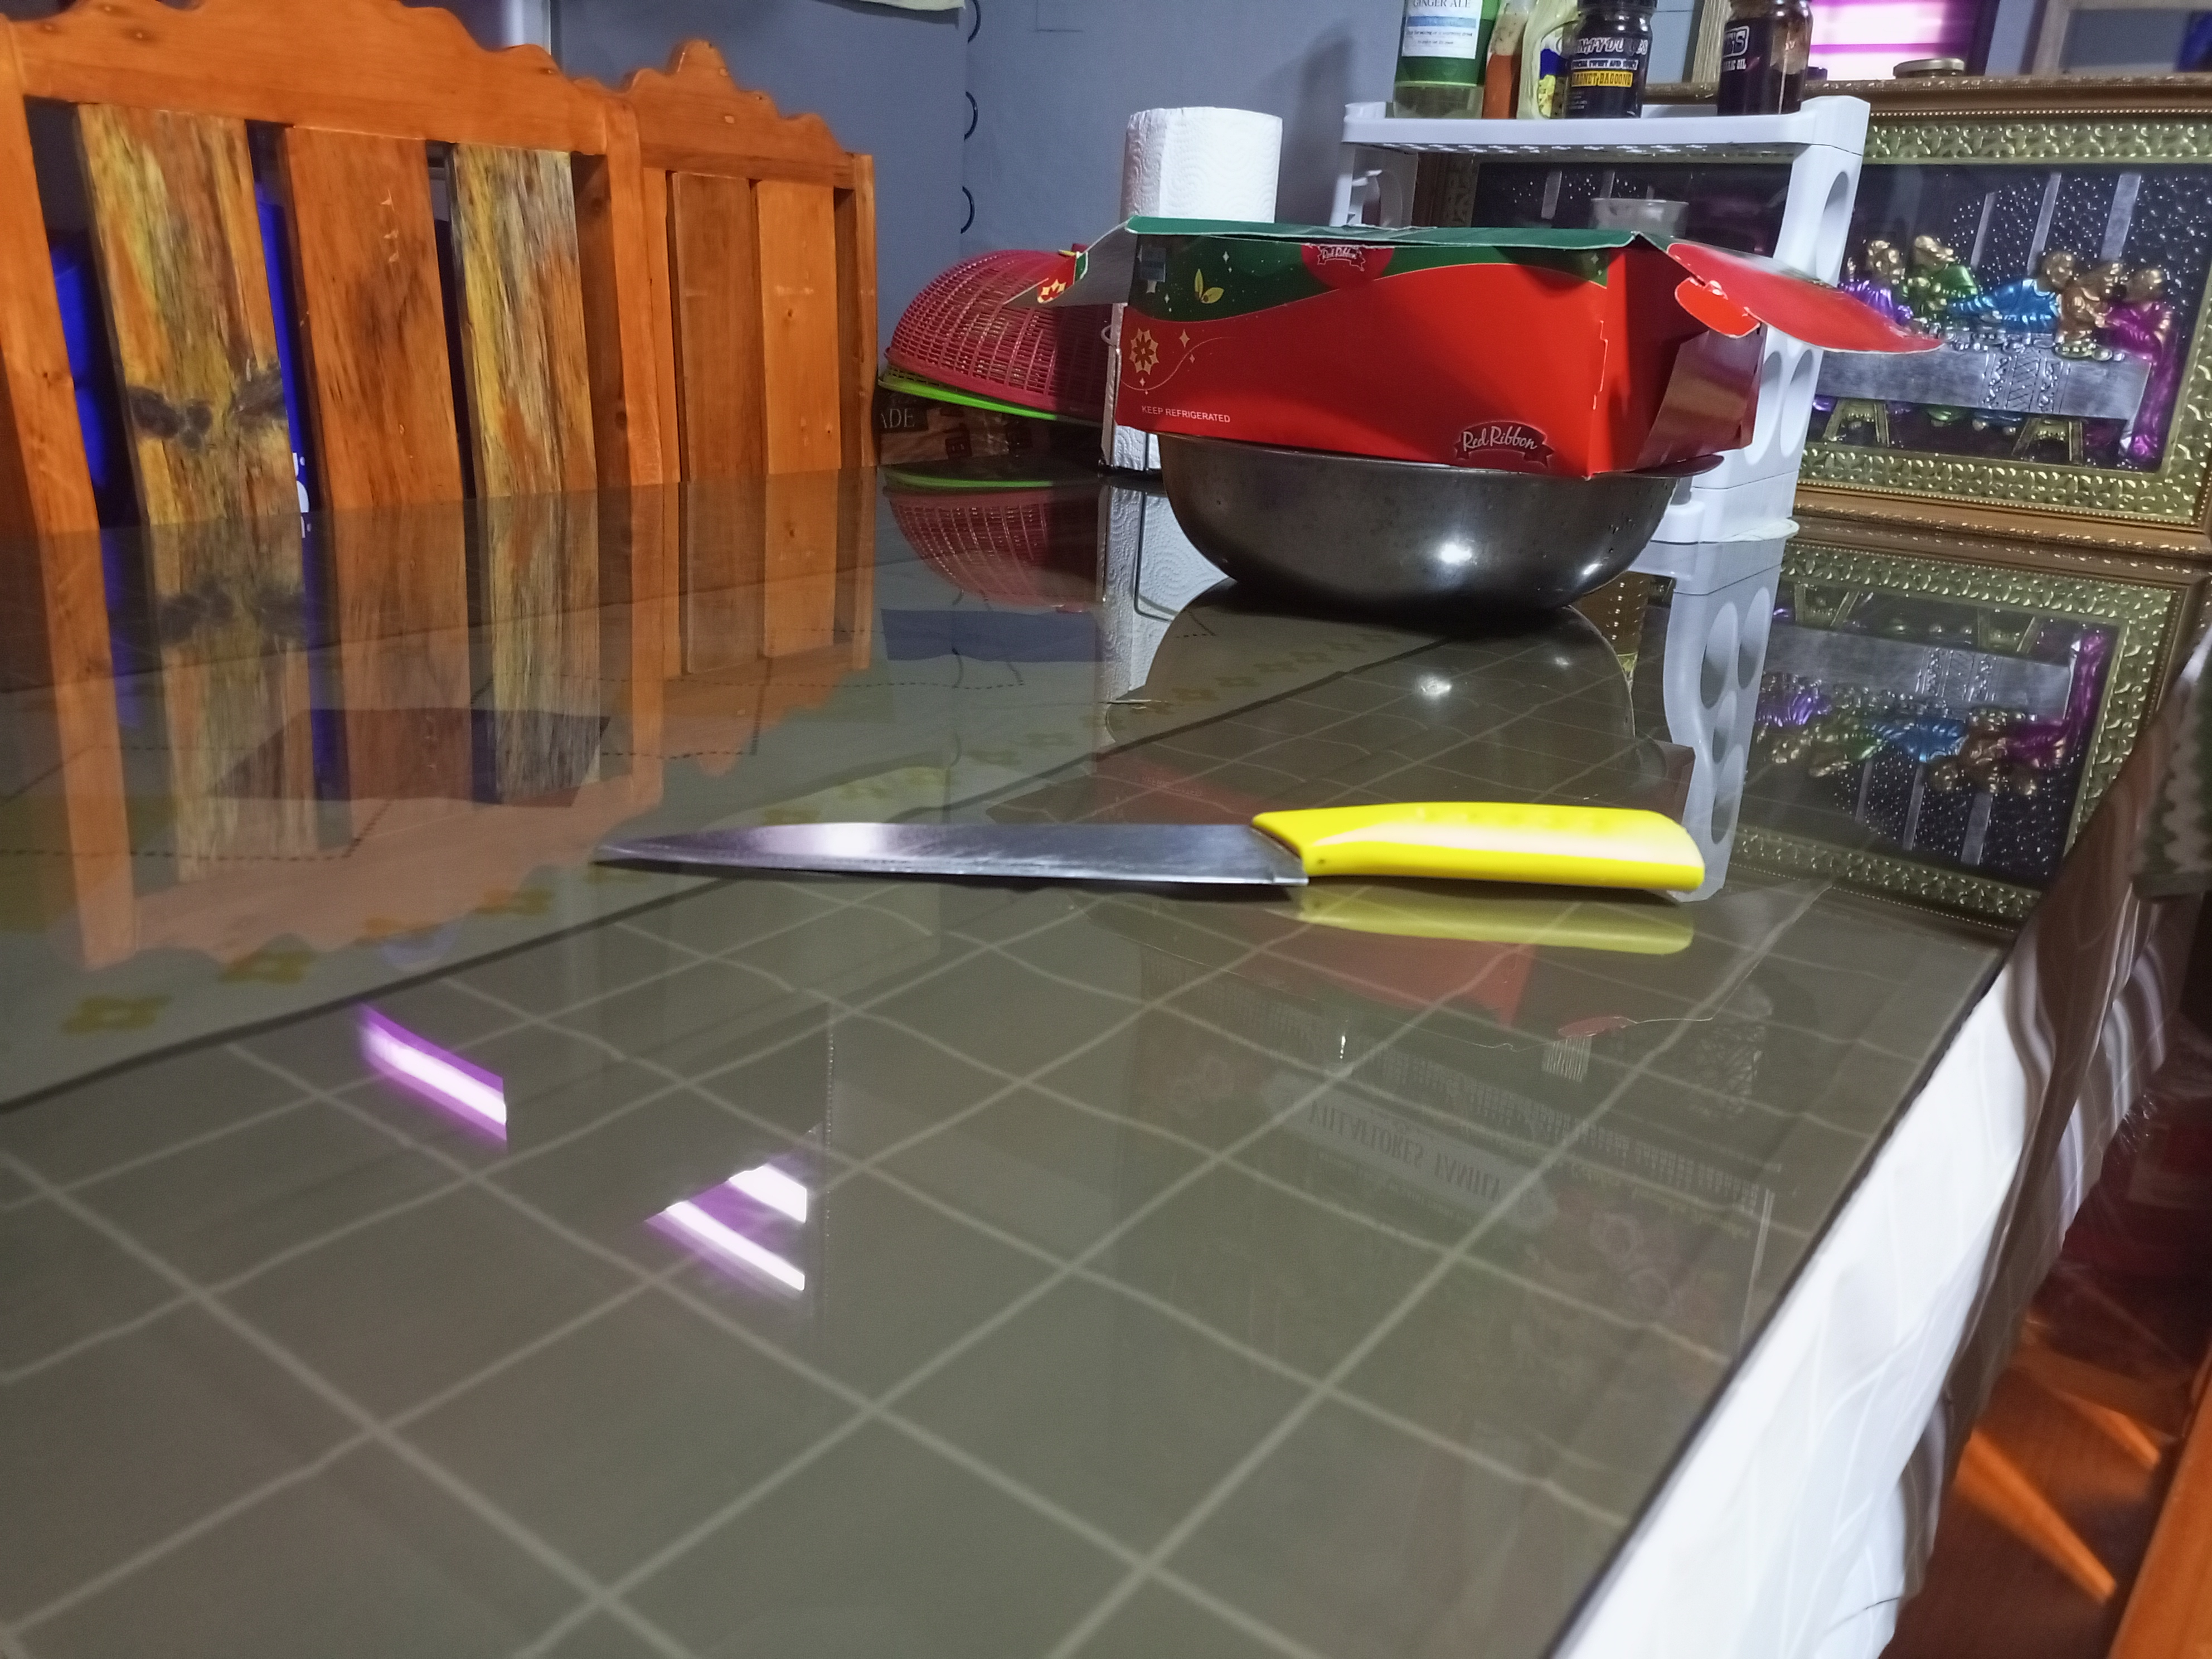knife: (590, 795, 1714, 910)
